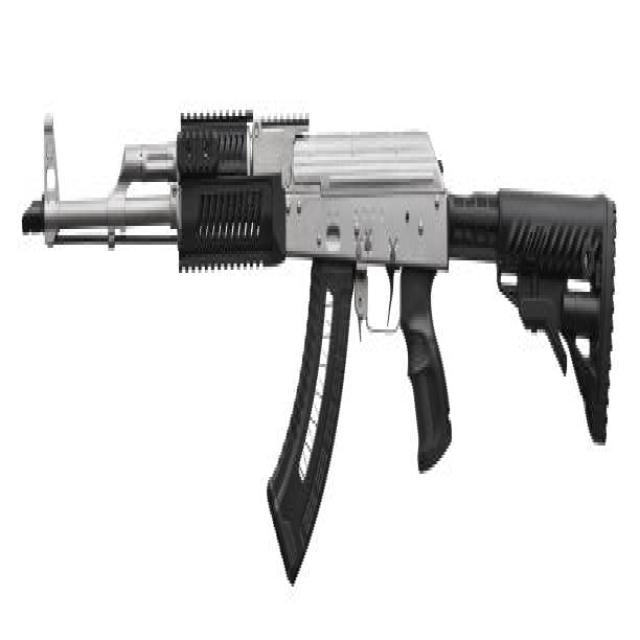rifle: (17, 102, 618, 596)
